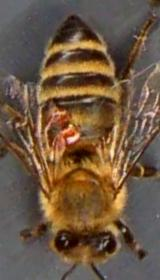varroa_mite: (55, 116, 94, 148)
